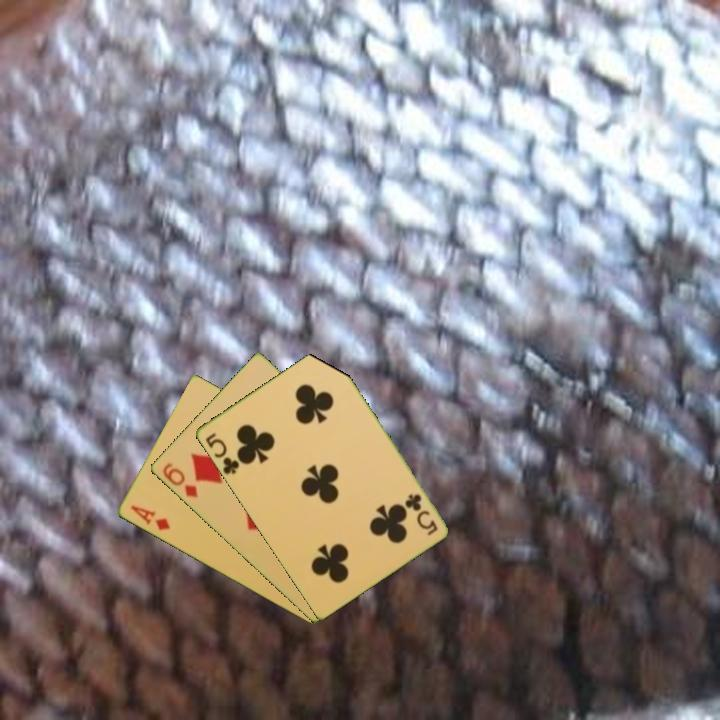5c: (201, 429, 244, 478), (401, 490, 440, 538)
6d: (159, 459, 200, 501)
Ad: (126, 502, 173, 534)
